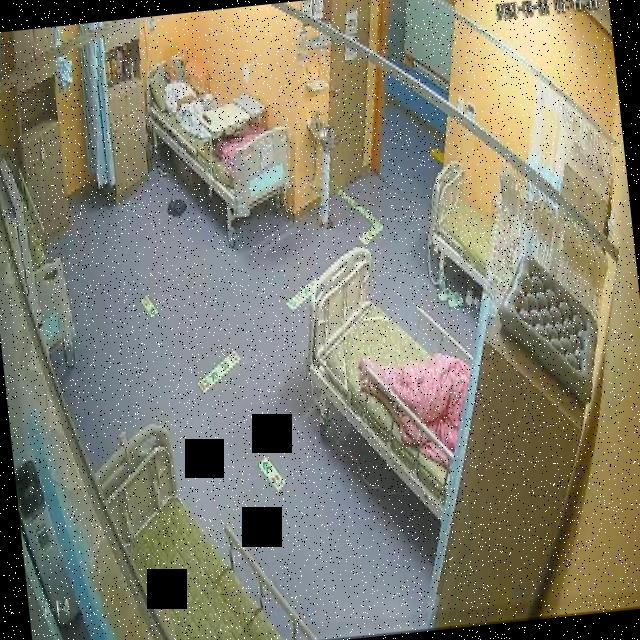bed: (294, 239, 480, 529), (88, 412, 316, 640), (136, 46, 298, 228), (423, 158, 499, 294)
lie: (158, 54, 210, 142)
patient: (158, 55, 208, 144)
